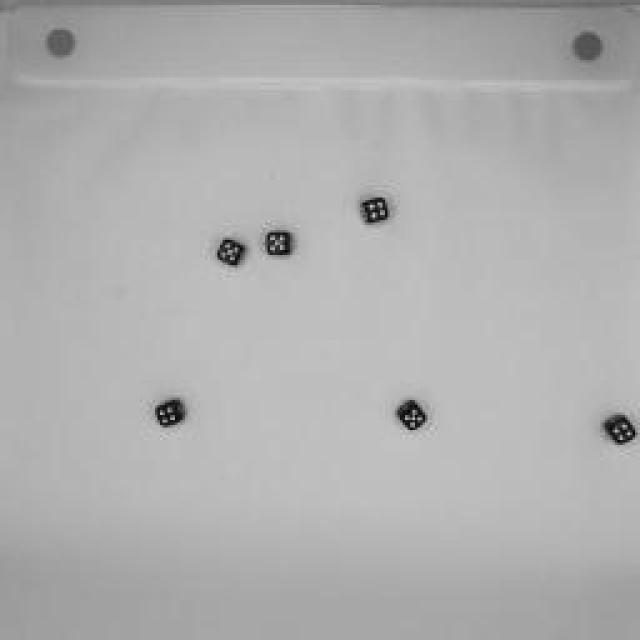dice_4: (598, 410, 638, 452), (358, 194, 392, 231), (152, 398, 188, 432)
dice_5: (210, 235, 248, 273), (394, 397, 428, 435), (262, 226, 296, 262)
